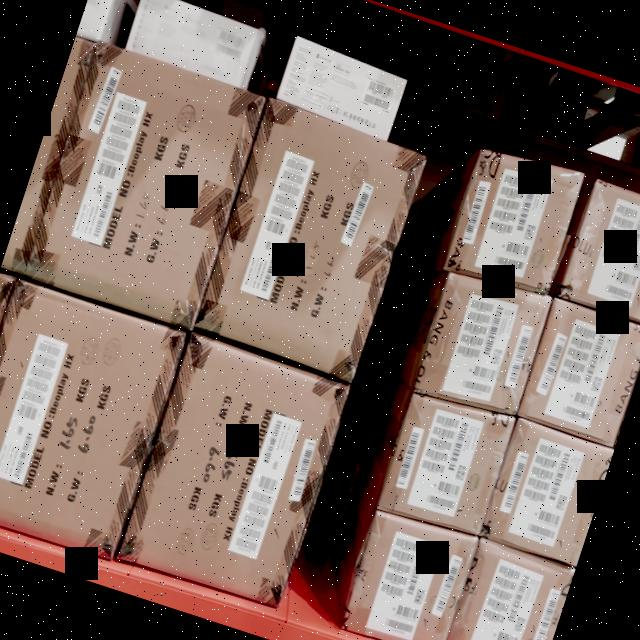box: (26, 44, 266, 328), (195, 98, 426, 382), (118, 337, 349, 611), (0, 282, 183, 559), (378, 394, 512, 540), (482, 418, 614, 566), (417, 276, 548, 418), (448, 157, 580, 292), (341, 509, 477, 640), (518, 302, 640, 445), (444, 540, 574, 640), (126, 0, 264, 88), (278, 44, 407, 134), (560, 181, 640, 326)
